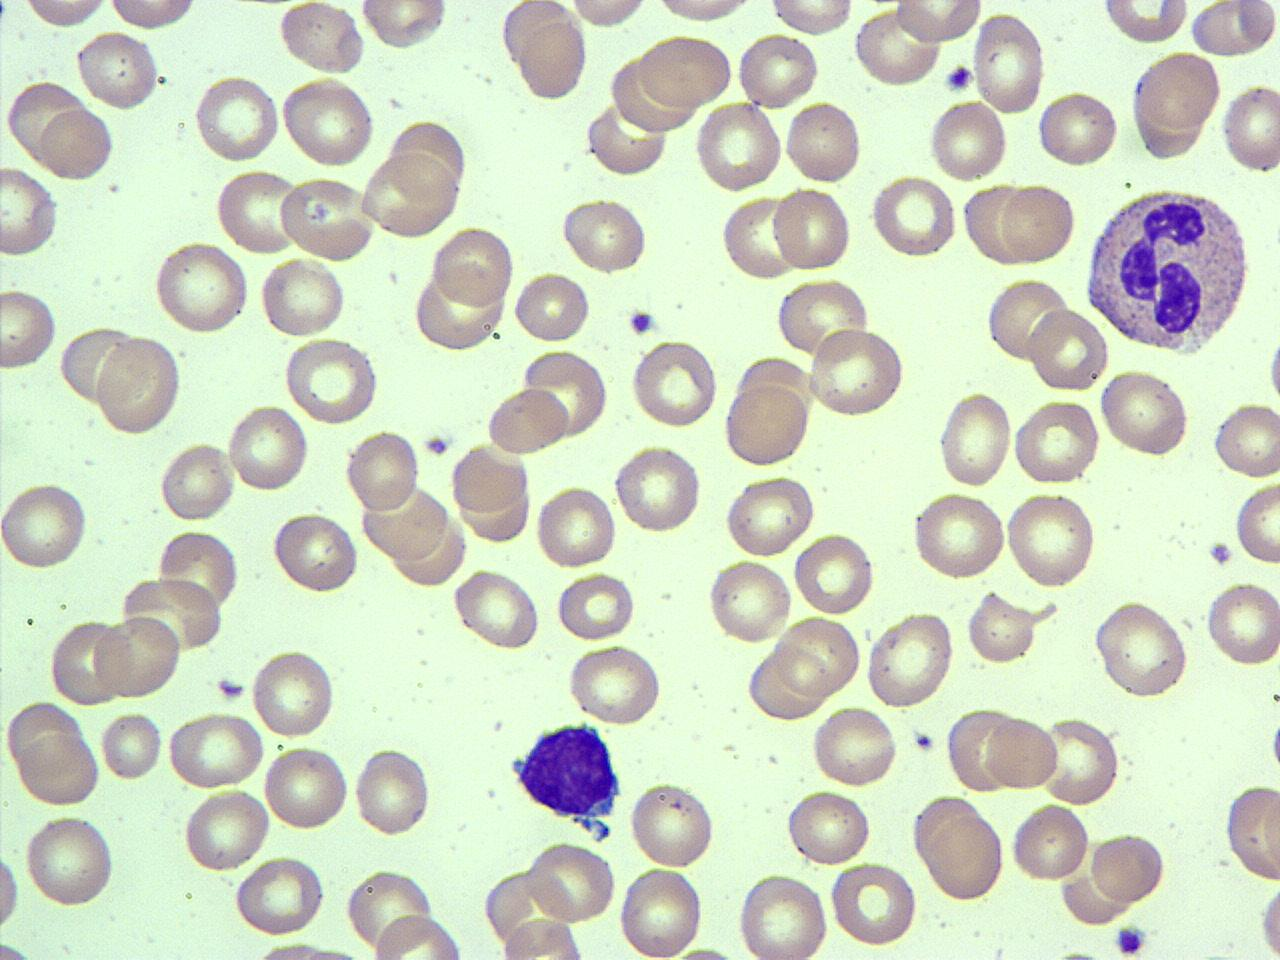Platelets: (1112, 922, 1148, 958), (1265, 333, 1280, 408), (626, 307, 659, 338), (944, 62, 974, 93), (422, 430, 452, 460), (1205, 538, 1233, 566), (1267, 717, 1280, 773), (914, 730, 936, 754)
RBC: (1090, 598, 1192, 700), (93, 331, 185, 438), (150, 240, 250, 338), (804, 326, 908, 419), (22, 810, 118, 910), (863, 608, 956, 710), (1004, 489, 1098, 591), (910, 488, 1009, 582), (279, 74, 376, 168), (358, 152, 462, 239), (692, 98, 784, 196), (260, 740, 352, 836), (282, 336, 380, 426), (735, 870, 831, 960), (276, 173, 375, 261), (611, 442, 703, 534), (627, 776, 717, 872), (0, 478, 91, 572), (1098, 368, 1192, 458), (411, 265, 507, 354), (165, 707, 266, 791), (191, 71, 281, 164), (345, 864, 439, 953), (180, 785, 272, 875), (213, 166, 305, 256), (630, 337, 720, 430), (250, 645, 337, 741), (617, 866, 707, 958), (772, 277, 872, 359), (92, 612, 182, 702), (983, 273, 1071, 365), (722, 377, 810, 469), (526, 839, 620, 926), (722, 472, 816, 558), (1039, 712, 1123, 809), (351, 742, 433, 840), (827, 860, 919, 948), (566, 642, 664, 724), (1012, 397, 1102, 486), (450, 566, 541, 652), (972, 10, 1046, 116), (10, 80, 99, 168), (524, 348, 610, 440), (226, 403, 311, 495), (924, 808, 1008, 902), (271, 509, 361, 596), (706, 557, 792, 645), (74, 27, 162, 114), (1132, 51, 1222, 137), (559, 193, 651, 276), (154, 526, 241, 614), (234, 855, 327, 937), (936, 389, 1013, 488), (871, 173, 957, 260), (774, 614, 864, 698), (810, 704, 900, 788), (852, 5, 942, 88), (257, 257, 349, 339), (770, 183, 852, 274), (784, 786, 874, 868), (1027, 304, 1109, 394), (792, 530, 878, 616), (533, 483, 619, 569), (636, 32, 734, 107), (432, 223, 516, 310), (718, 194, 801, 279), (1036, 86, 1120, 170), (998, 179, 1078, 266), (783, 99, 864, 186), (344, 426, 422, 514), (48, 616, 124, 708), (275, 0, 367, 76), (55, 320, 134, 407), (158, 438, 237, 525), (1009, 801, 1091, 884), (16, 728, 102, 808), (1204, 578, 1280, 668), (927, 98, 1009, 181), (945, 704, 1021, 793), (746, 642, 830, 721), (733, 31, 819, 108), (586, 99, 668, 178), (517, 14, 589, 102), (37, 102, 116, 182), (964, 590, 1045, 666), (512, 268, 592, 345), (1089, 829, 1167, 906), (984, 711, 1058, 792), (484, 384, 567, 455), (0, 164, 61, 260), (1220, 81, 1280, 176), (449, 442, 528, 514), (1225, 781, 1280, 884), (556, 571, 635, 642), (1211, 399, 1279, 481), (0, 286, 60, 372), (1188, 1, 1276, 59), (98, 709, 165, 781), (368, 912, 467, 960), (358, 0, 449, 51), (892, 0, 985, 47), (1234, 476, 1280, 567), (1100, 0, 1190, 46), (499, 916, 588, 960), (764, 0, 859, 37), (105, 0, 204, 33), (18, 0, 116, 31), (560, 0, 654, 32), (648, 0, 760, 26), (1256, 778, 1280, 886), (0, 830, 22, 946), (1254, 874, 1280, 960)
WBC: (1081, 179, 1263, 358), (511, 716, 626, 832)
